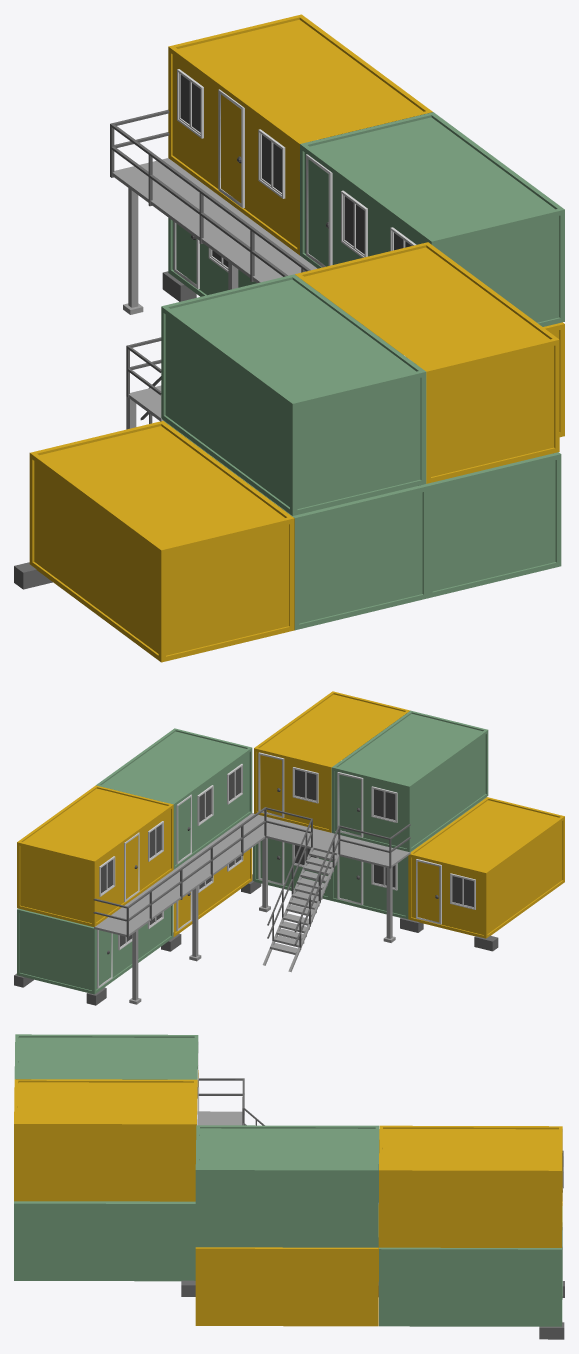
Rendered from Build_Vagons.fbx.
3 renders of one model, top to bottom at view 1: azimuth 30°, elevation 25°; view 2: azimuth 150°, elevation 25°; view 3: azimuth 270°, elevation 25°, orthographic. The views are drawn at different scales.
Visible parts, largest first — view 1: Build_Vagons; view 2: Build_Vagons; view 3: Build_Vagons.
Boxes of the visible parts, left/top/right/bottom form: Build_Vagons: left=14, top=14, right=564, bottom=662; Build_Vagons: left=14, top=691, right=564, bottom=1005; Build_Vagons: left=14, top=1034, right=564, bottom=1339.
Bounding box in the file's own units: 18.44 × 8.09 × 23.13.
